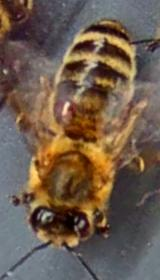varroa_mite: (52, 94, 77, 120)
